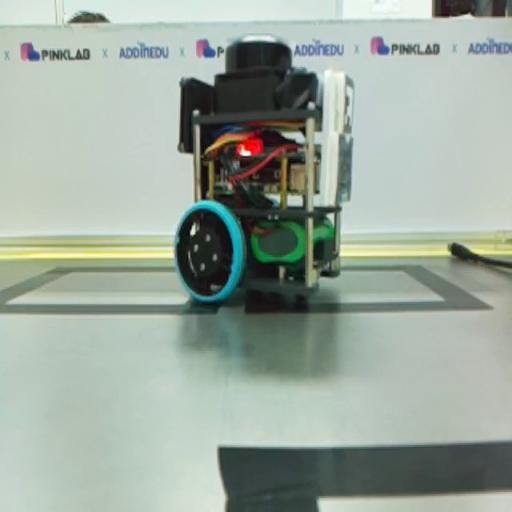pinky_63: (175, 35, 354, 304)
